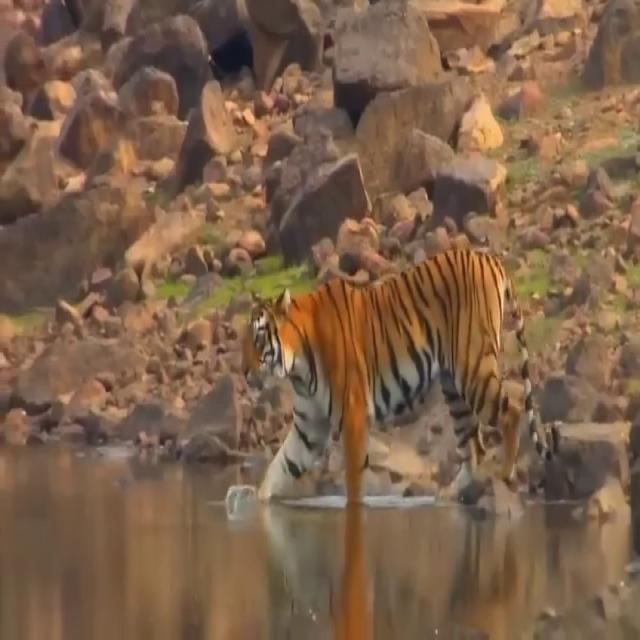tiger: (240, 248, 560, 501)
